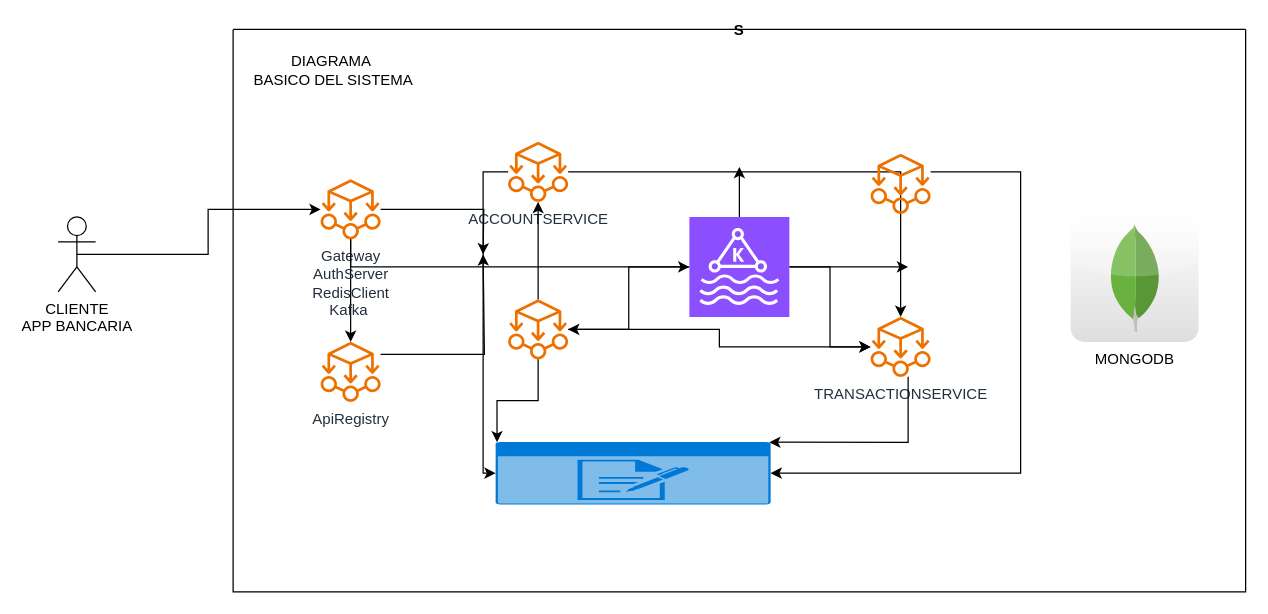
Image size: 1268x614. Some labels were removed from this diagram. Here are the shapes that lost their labels. From the top down, the centre of each, then its label:
pixel 900 183: CREDITSERVER
pixel 538 329: CUSTOMERSERVICE
pixel 632 472: Log
